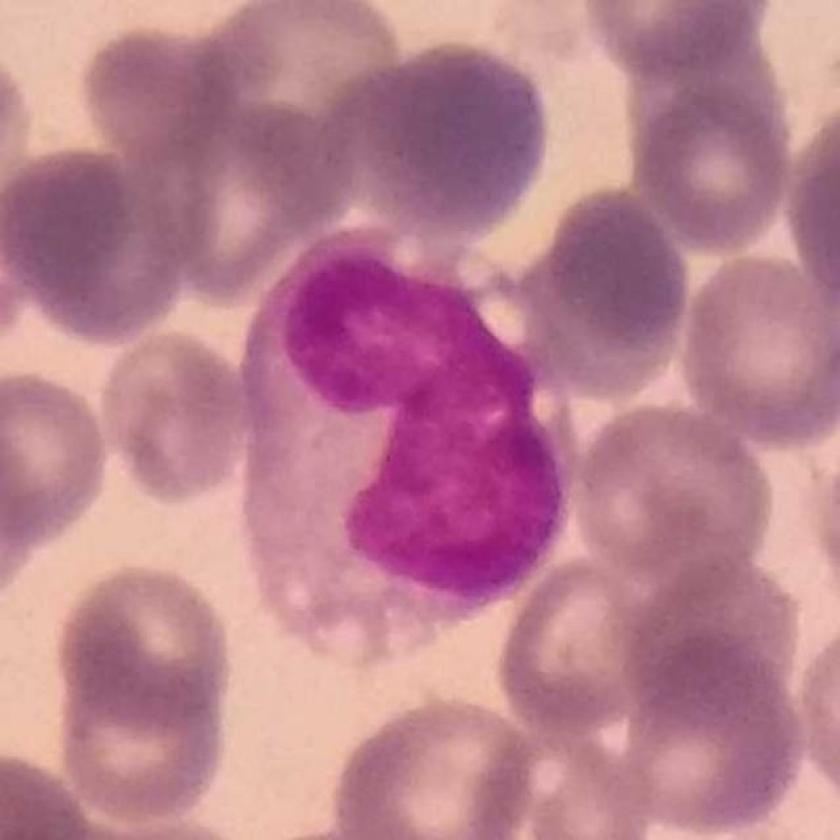monocyte: (243, 217, 592, 671)
